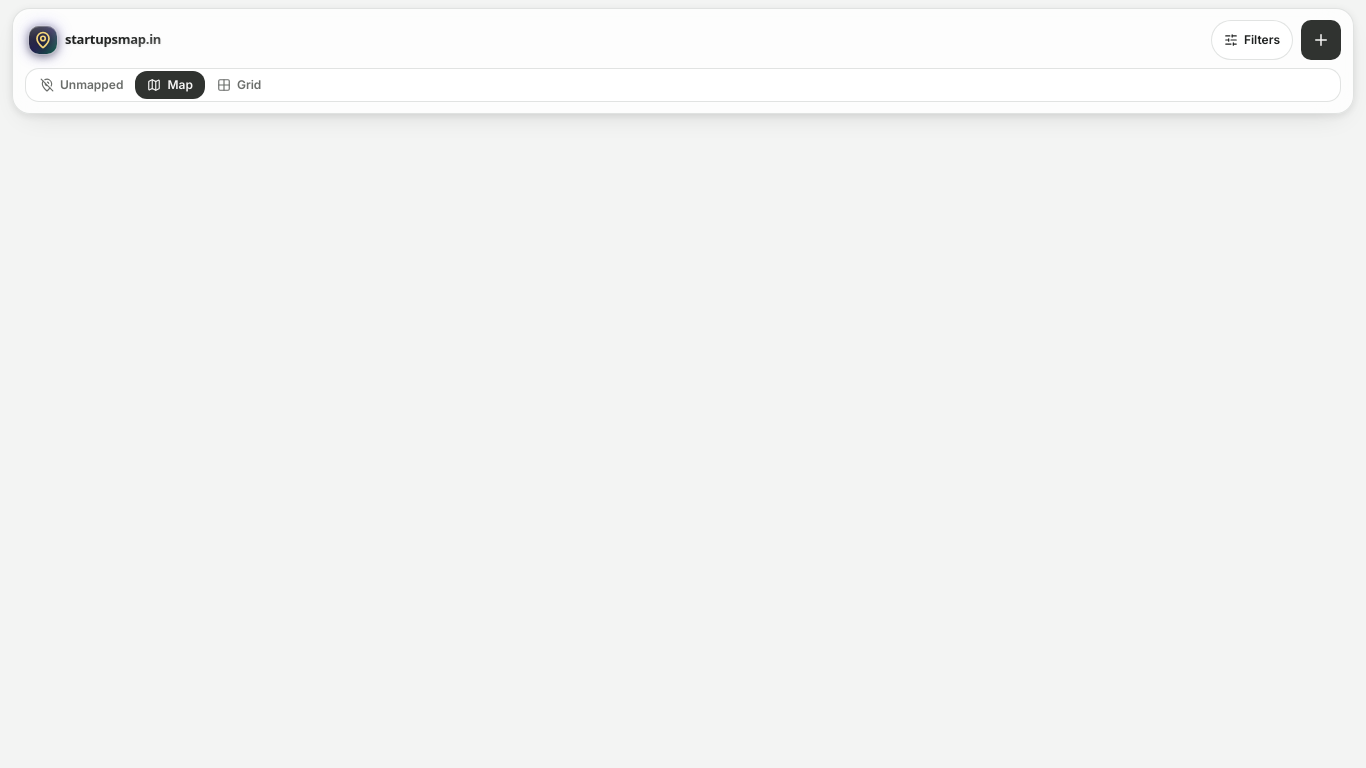
Test: MobileToolbar › closes the FilterTray when the Filters pill is clicked while open (Problem #8)
The width and height of the screenshot is (1366, 768).
Step 1. Click the button with aria-label "Toggle filters" → (1252, 40), box [1211, 20, 1293, 60]
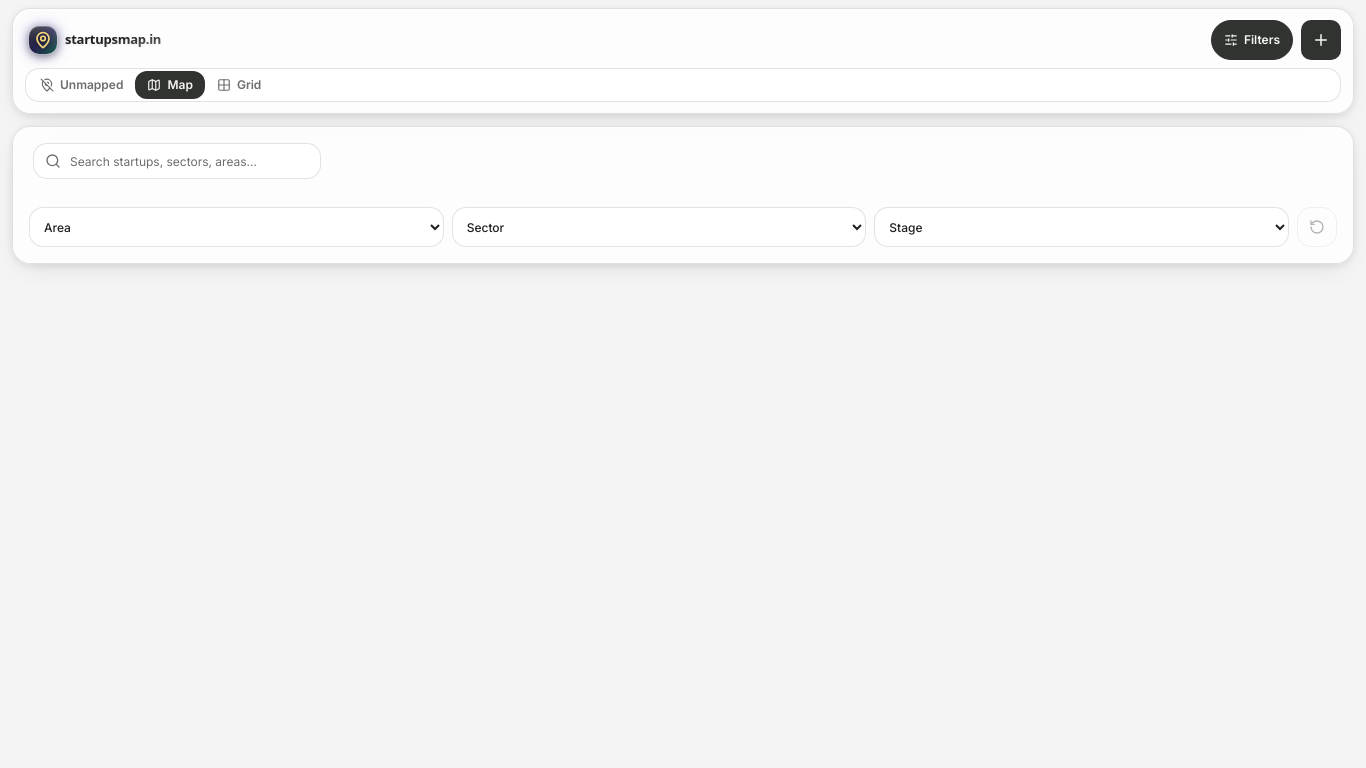
Check: the dialog named "Filters" is shown, box [12, 126, 1354, 264]
Note: The pill's mousedown must NOT close the tray (it is the toggle)...
Step 2. Press the mouse on the button with aria-label "Toggle filters" → (1252, 40), box [1211, 20, 1293, 60]
Check: the dialog named "Filters" is shown, box [12, 126, 1354, 264]
Note: ...and the pill's click closes it.
Step 3. Click the button with aria-label "Toggle filters" → (1252, 40), box [1211, 20, 1293, 60]
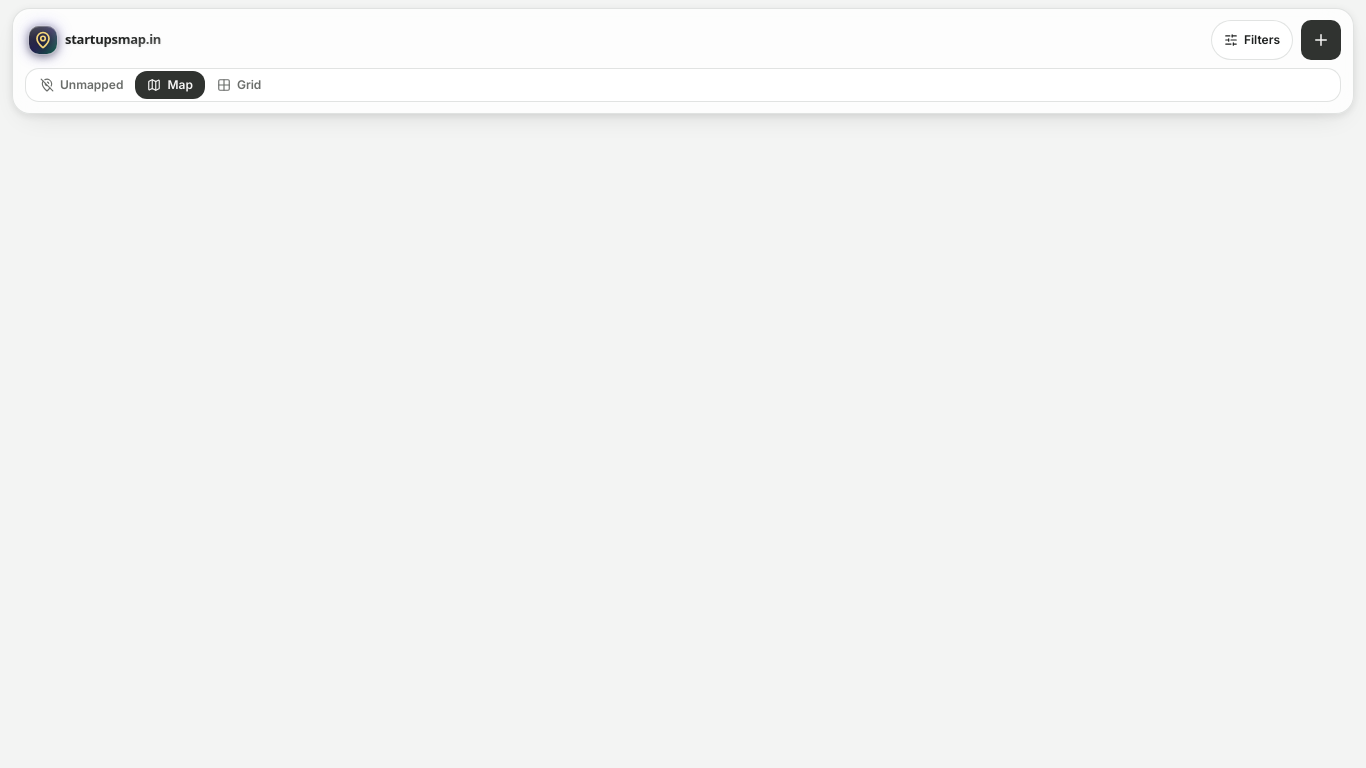
Check: the button with aria-label "Toggle filters" is collapsed, box [1211, 20, 1293, 60]
